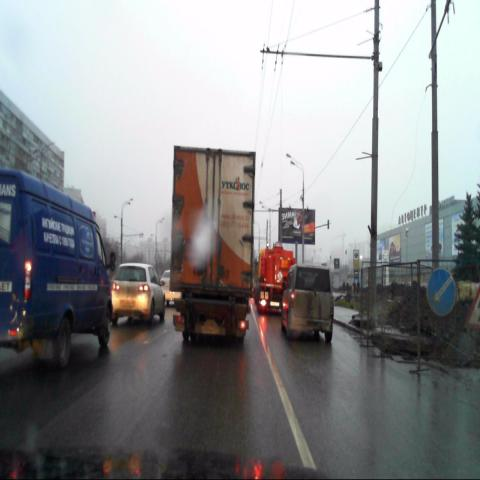4_2_2: (428, 267, 456, 316)
